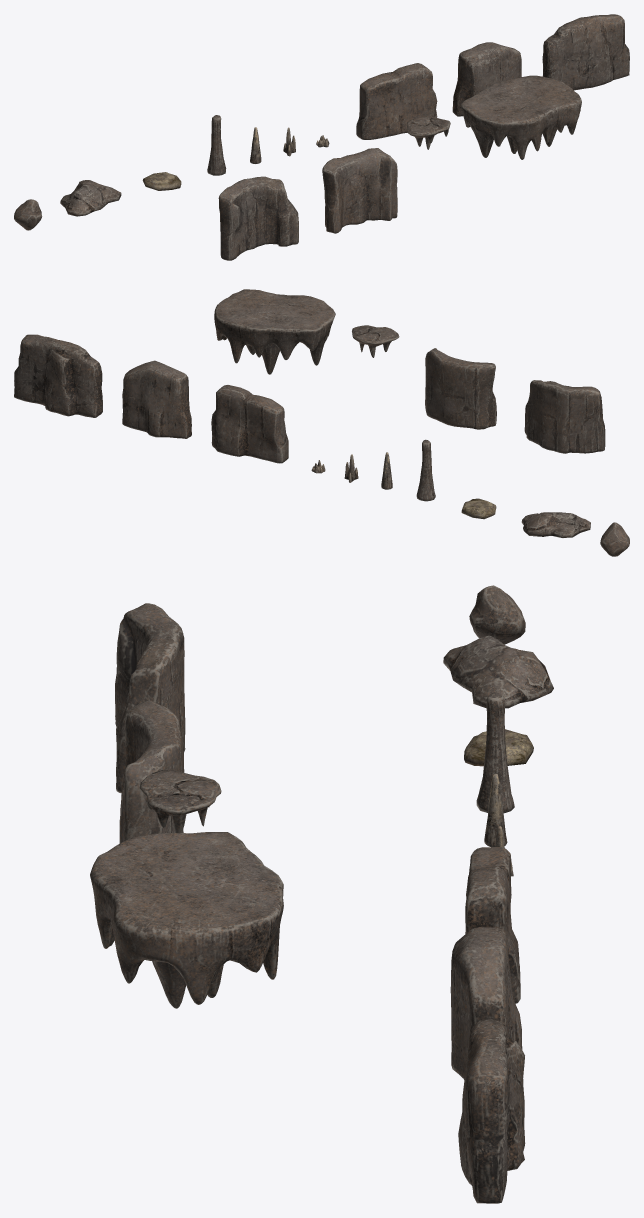
File: CaveRocks.gltf
3 renders of one model, top to bottom at view 1: azimuth 30°, elevation 25°; view 2: azimuth 150°, elevation 25°; view 3: azimuth 270°, elevation 25°, orthographic. The views are drawn at different scales.
Parts seen in each view (by area): view 1: S_CaveTopSpears02, S_CaveWall03, S_CaveWallCorner01, S_CaveWallCorner02, S_CaveWall01, S_CaveWall02, S_CaveRock02, S_CaveTopSpears01, S_CaveRockColumn, S_CaveRock01, S_CaveRock03; view 2: S_CaveTopSpears02, S_CaveWall03, S_CaveWallCorner01, S_CaveWallCorner02, S_CaveWall01, S_CaveWall02, S_CaveRock02, S_CaveTopSpears01, S_CaveRockColumn, S_CaveRock01, S_CaveRock03; view 3: S_CaveTopSpears02, S_CaveWall03, S_CaveWallCorner01, S_CaveWall02, S_CaveWallCorner02, S_CaveRock02, S_CaveWall01, S_CaveTopSpears01, S_CaveRockColumn, S_CaveRock01, S_CaveRock03, S_CaveRockSpear01.
Boxes of the visible parts, bbox=[...] form: S_CaveTopSpears02: bbox=[461, 75, 581, 159]; S_CaveWall03: bbox=[542, 14, 629, 90]; S_CaveWallCorner01: bbox=[218, 176, 298, 260]; S_CaveWallCorner02: bbox=[322, 148, 397, 233]; S_CaveWall01: bbox=[356, 63, 437, 139]; S_CaveWall02: bbox=[452, 42, 521, 116]; S_CaveRock02: bbox=[60, 180, 121, 216]; S_CaveTopSpears01: bbox=[406, 117, 450, 149]; S_CaveRockColumn: bbox=[207, 115, 226, 175]; S_CaveRock01: bbox=[14, 199, 42, 230]; S_CaveRock03: bbox=[142, 172, 181, 190]; S_CaveTopSpears02: bbox=[214, 289, 335, 374]; S_CaveWall03: bbox=[14, 334, 102, 417]; S_CaveWallCorner01: bbox=[524, 380, 605, 453]; S_CaveWallCorner02: bbox=[425, 348, 496, 429]; S_CaveWall01: bbox=[211, 385, 288, 463]; S_CaveWall02: bbox=[122, 360, 191, 438]; S_CaveRock02: bbox=[521, 512, 590, 537]; S_CaveTopSpears01: bbox=[352, 325, 399, 357]; S_CaveRockColumn: bbox=[416, 439, 435, 501]; S_CaveRock01: bbox=[600, 522, 629, 556]; S_CaveRock03: bbox=[461, 498, 496, 519]; S_CaveTopSpears02: bbox=[90, 832, 283, 1008]; S_CaveWall03: bbox=[458, 1019, 525, 1203]; S_CaveWallCorner01: bbox=[115, 603, 185, 793]; S_CaveWall02: bbox=[450, 927, 522, 1079]; S_CaveWallCorner02: bbox=[119, 701, 184, 843]; S_CaveRock02: bbox=[443, 635, 553, 708]; S_CaveWall01: bbox=[465, 847, 520, 1003]; S_CaveTopSpears01: bbox=[140, 770, 221, 832]; S_CaveRockColumn: bbox=[476, 692, 514, 813]; S_CaveRock01: bbox=[469, 585, 525, 644]; S_CaveRock03: bbox=[464, 729, 533, 766]; S_CaveRockSpear01: bbox=[484, 773, 507, 847].
Size of the model in its own units: 64.5 by 8.71 by 21.21.
Materials: 4 (4 with a texture image).
